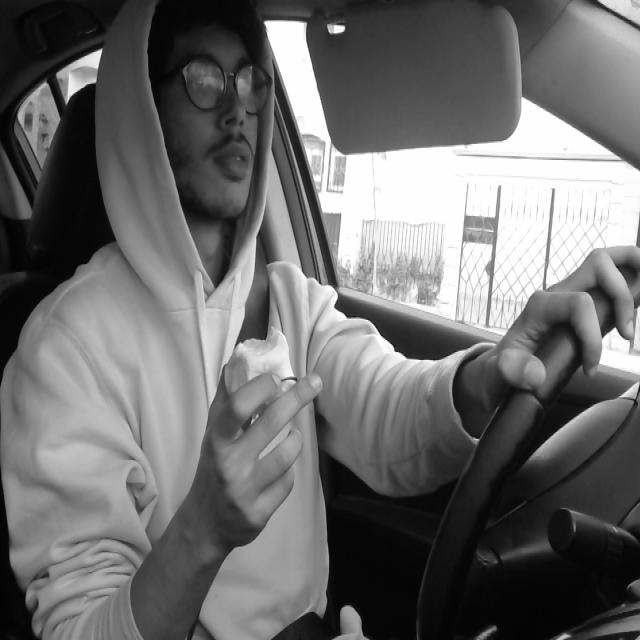eating: (218, 317, 298, 423)
